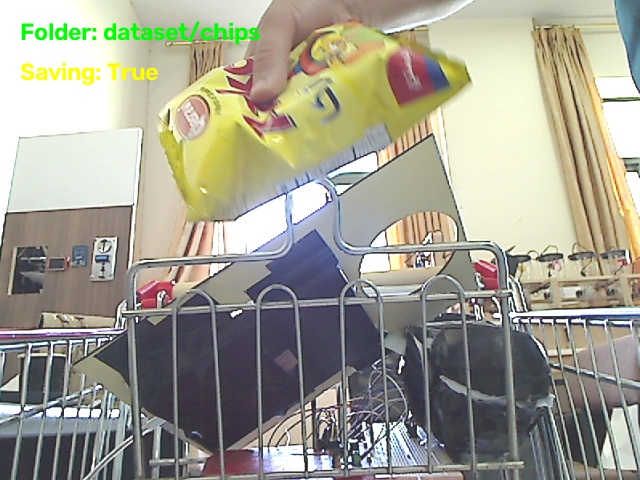chips: (159, 23, 469, 220)
